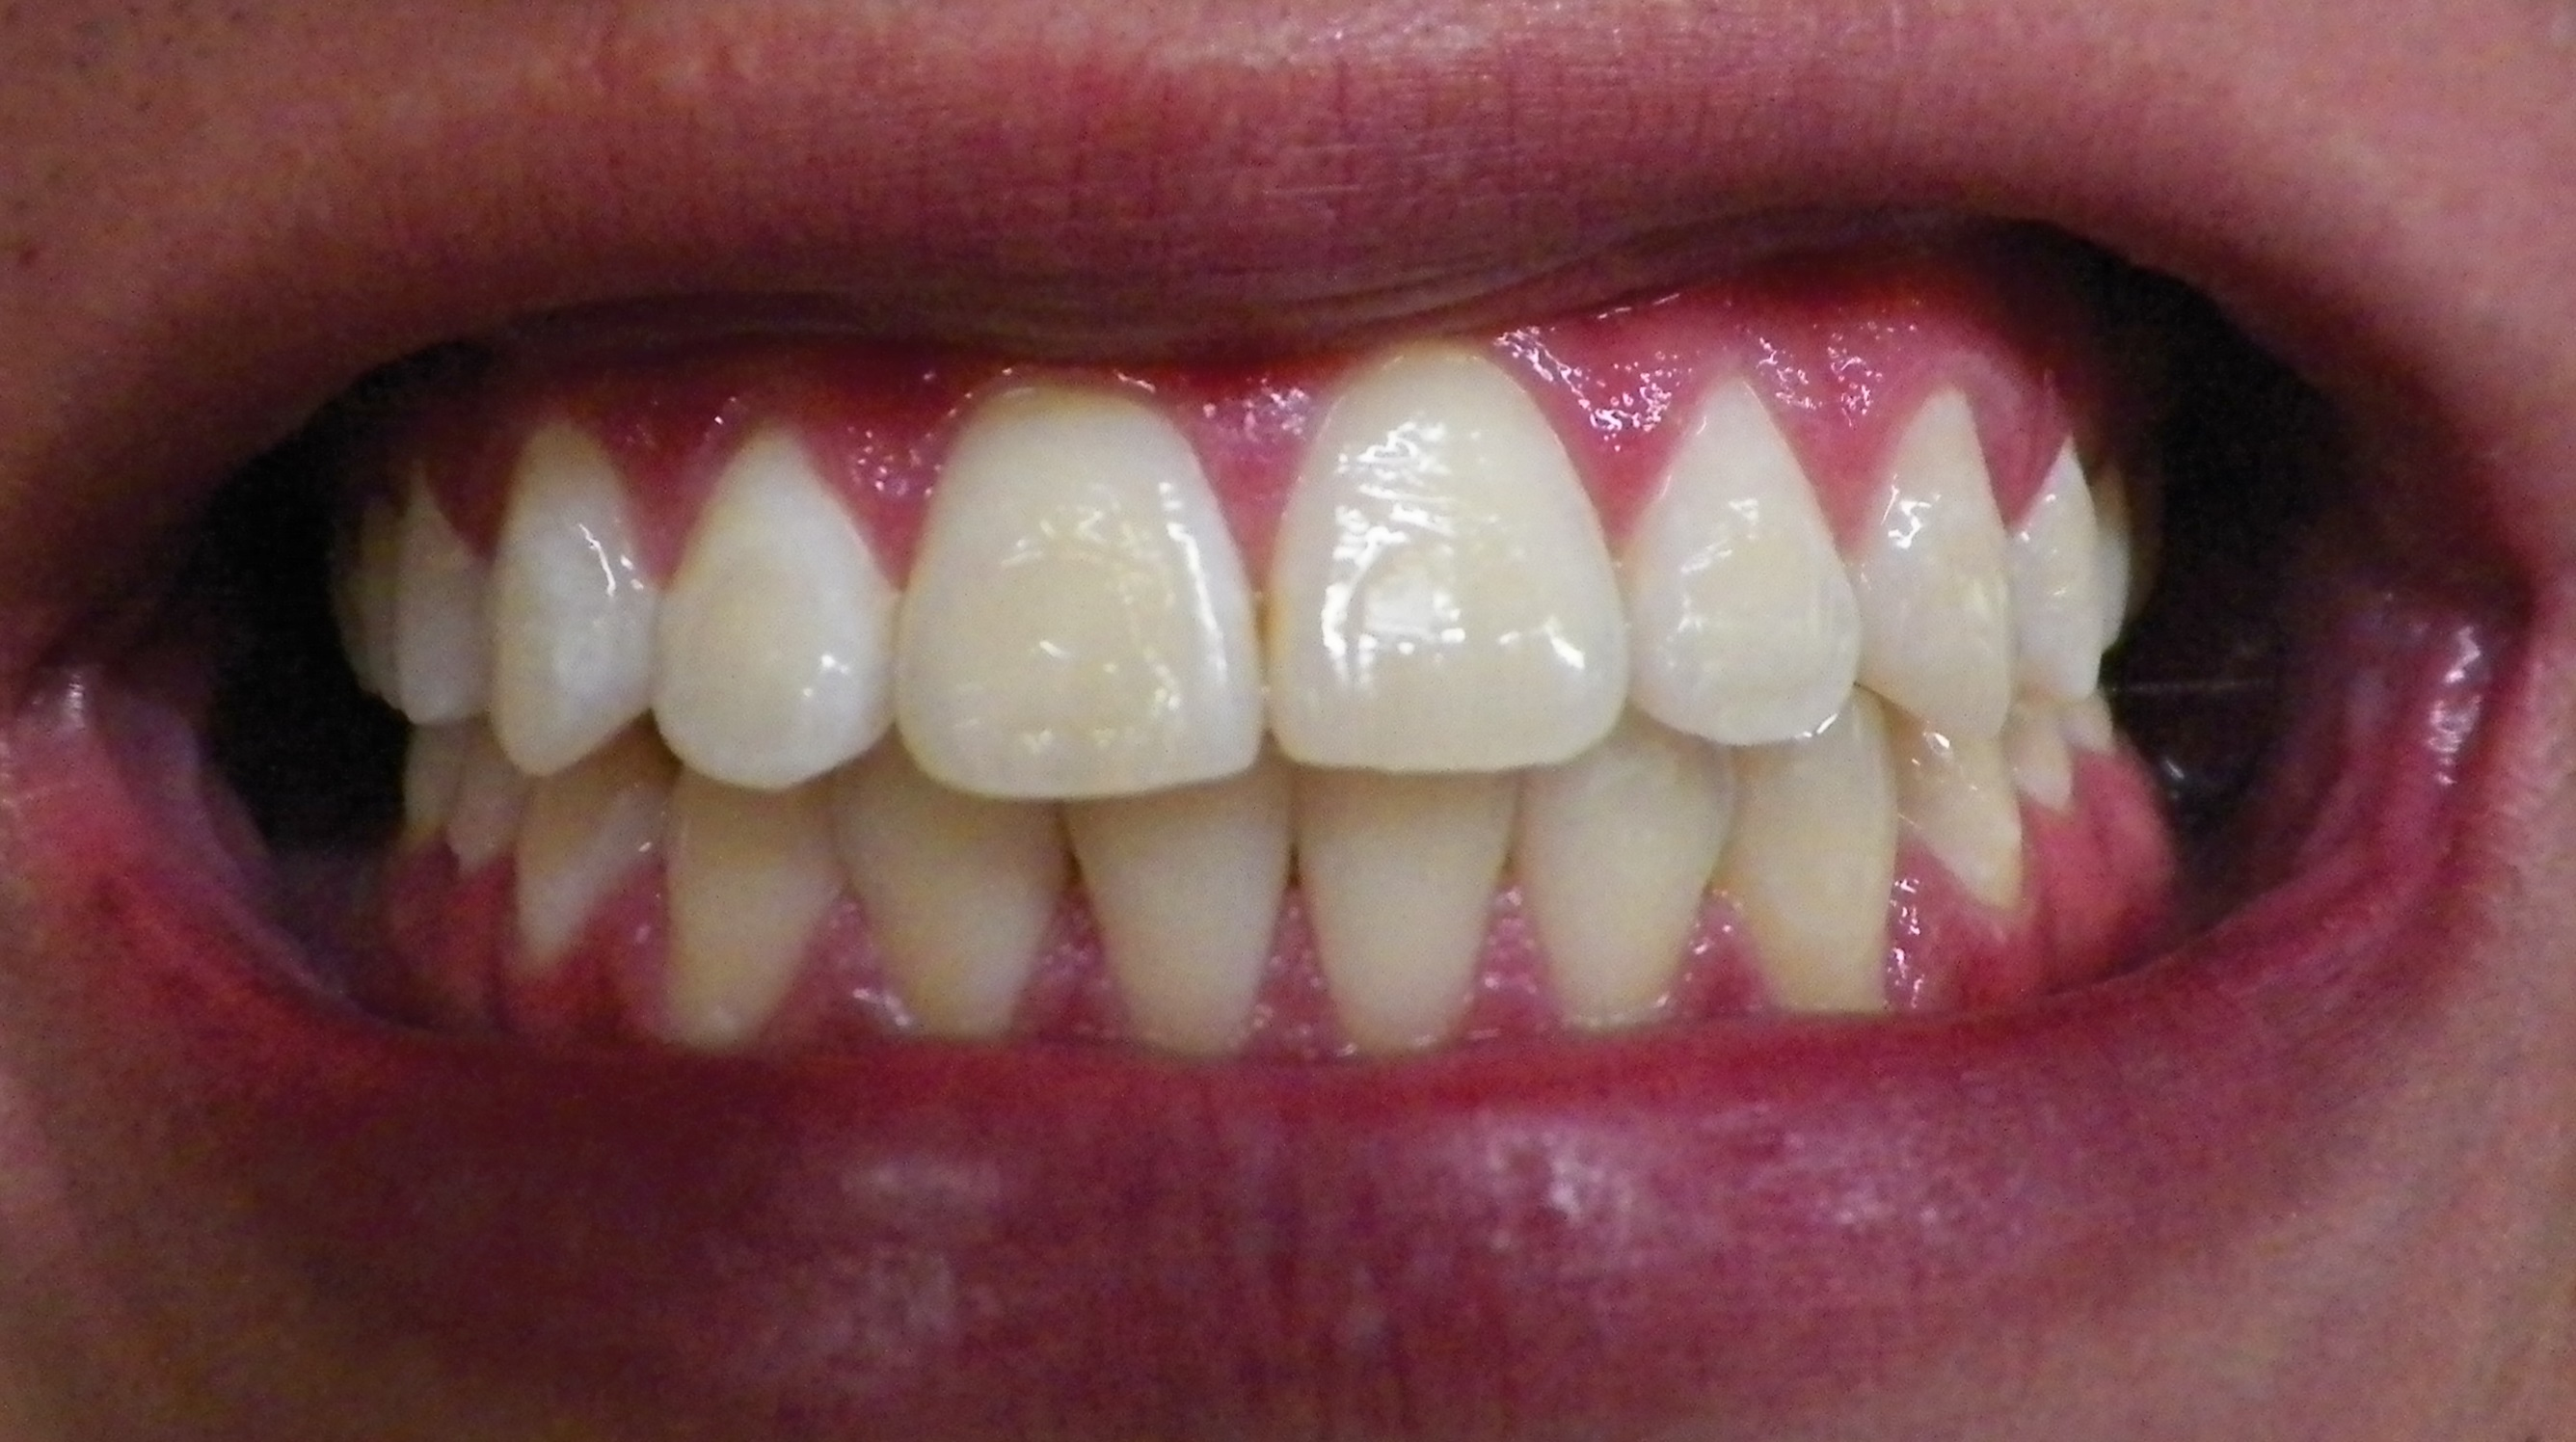boca: (329, 361, 2173, 1042)
